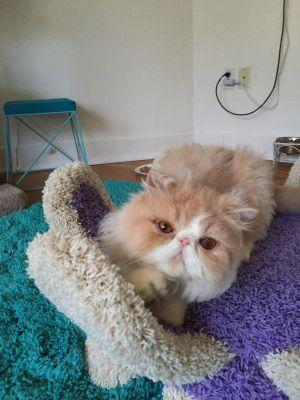persian: (119, 158, 250, 296)
